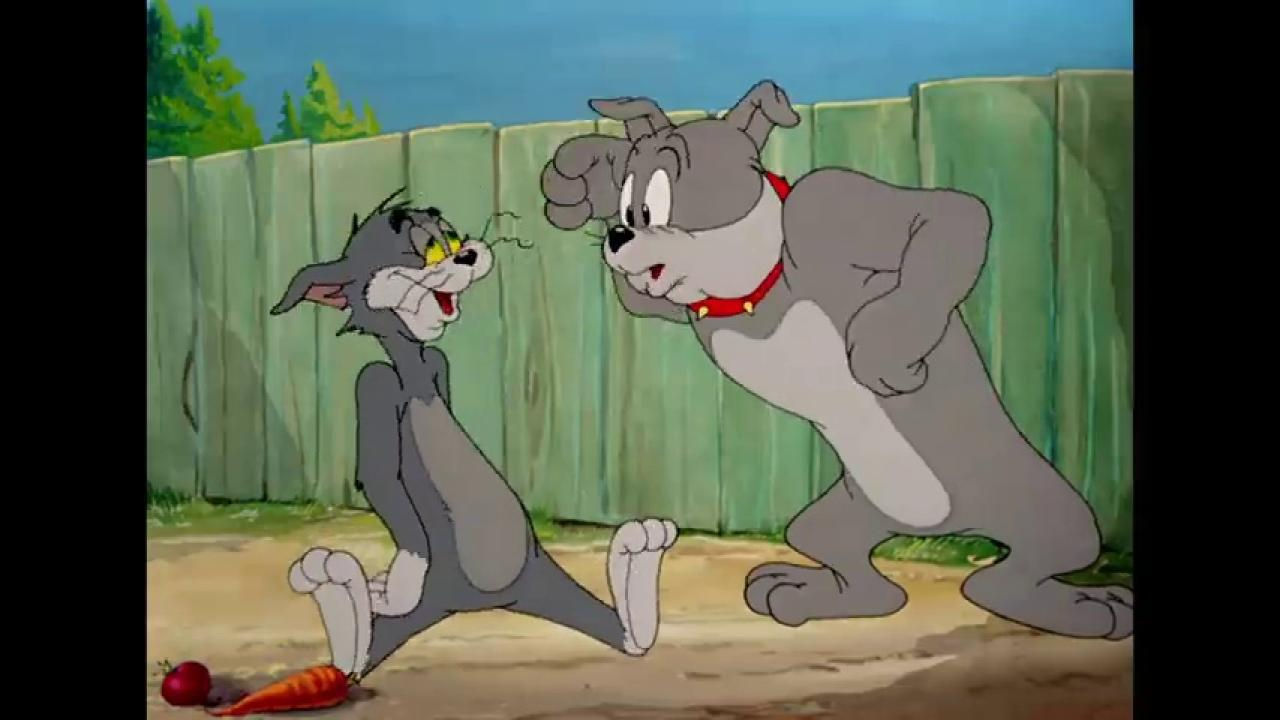Tom: (269, 185, 681, 681)
